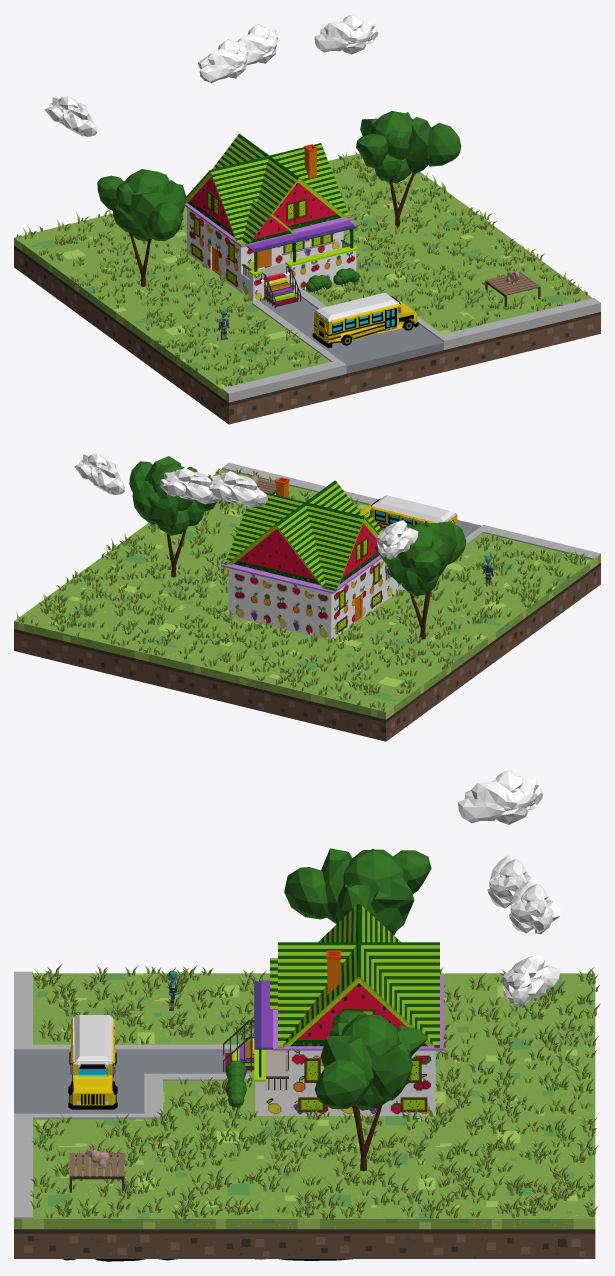
The picture shows the model from 3 angles, top to bottom: view 1: azimuth 30°, elevation 25°; view 2: azimuth 150°, elevation 25°; view 3: azimuth 270°, elevation 25°; orthographic projection. The views are drawn at different scales.
Parts seen in each view (by area): view 1: Cube.006, Cube.1063, Circle.012_Grass_0.192, Cube.007, tree, tree.001, VEHICLES_SCHOOL_BUS, Cube.009; view 2: Cube.006, Cube.1063, Circle.012_Grass_0.192, Cube.007, tree.001, tree, VEHICLES_SCHOOL_BUS; view 3: Cube.006, Circle.012_Grass_0.192, Cube.1063, tree, Cube.007, tree.001, VEHICLES_SCHOOL_BUS, Cube.009.
Part boxes in pixels (left/top/right/bottom): Cube.006: left=14, top=153, right=600, bottom=424; Cube.1063: left=185, top=134, right=358, bottom=307; Circle.012_Grass_0.192: left=16, top=151, right=587, bottom=386; Cube.007: left=44, top=14, right=378, bottom=136; tree: left=356, top=111, right=460, bottom=228; tree.001: left=97, top=169, right=186, bottom=286; VEHICLES_SCHOOL_BUS: left=312, top=293, right=418, bottom=348; Cube.009: left=485, top=272, right=540, bottom=306; Cube.006: left=14, top=463, right=600, bottom=741; Cube.1063: left=221, top=477, right=397, bottom=640; Circle.012_Grass_0.192: left=16, top=468, right=587, bottom=711; Cube.007: left=74, top=453, right=418, bottom=559; tree.001: left=374, top=521, right=466, bottom=639; tree: left=129, top=456, right=216, bottom=577; VEHICLES_SCHOOL_BUS: left=360, top=495, right=457, bottom=530; Cube.006: left=14, top=971, right=595, bottom=1258; Circle.012_Grass_0.192: left=29, top=963, right=600, bottom=1220; Cube.1063: left=223, top=903, right=443, bottom=1115; tree: left=314, top=1010, right=427, bottom=1171; Cube.007: left=457, top=770, right=560, bottom=1007; tree.001: left=284, top=848, right=431, bottom=935; VEHICLES_SCHOOL_BUS: left=68, top=1015, right=117, bottom=1109; Cube.009: left=69, top=1152, right=124, bottom=1192.
Bounding box in the file's own units: 4071 × 2149 × 4040.
39 materials, 5 textured.
